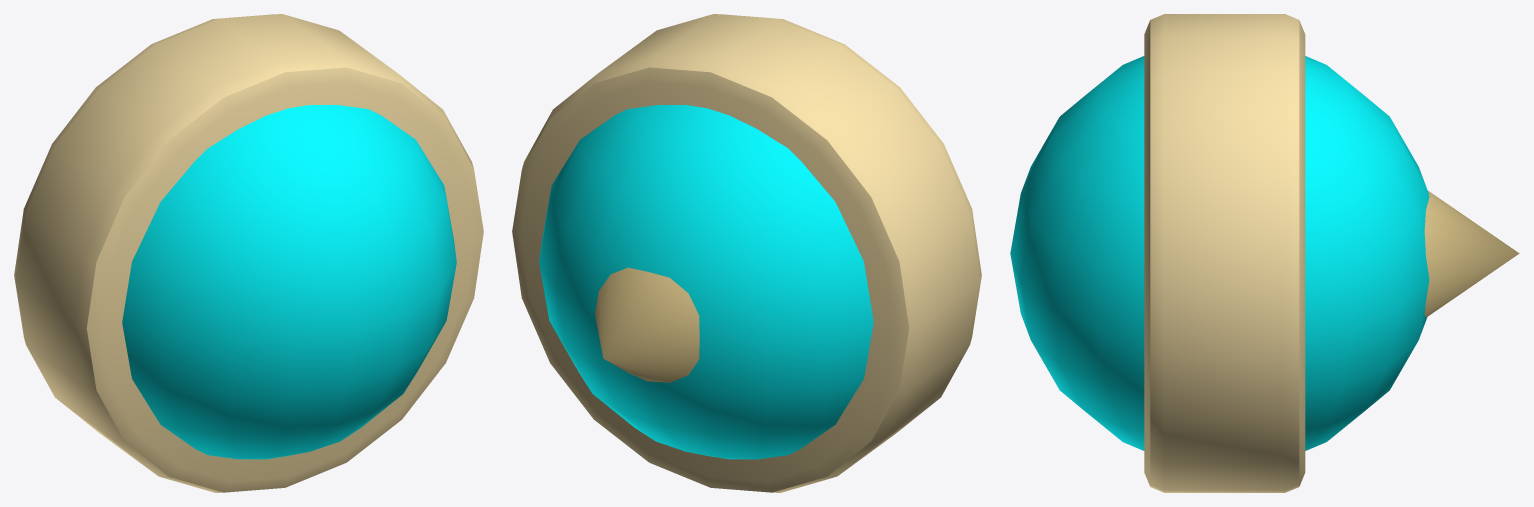
The model's file is probe_tip.glb.
3 renders of one model, left to right at view 1: azimuth 30°, elevation 25°; view 2: azimuth 150°, elevation 25°; view 3: azimuth 270°, elevation 25°, orthographic. The views are drawn at different scales.
Parts seen in each view (by area): view 1: Sphere; view 2: Sphere; view 3: Sphere.
Boxes of the visible parts, x1,y1,x2,y2 form: Sphere: (14, 14, 483, 492); Sphere: (512, 14, 981, 492); Sphere: (1010, 14, 1519, 492).
Size of the model in its own units: 0.72 by 0.72 by 0.76.
